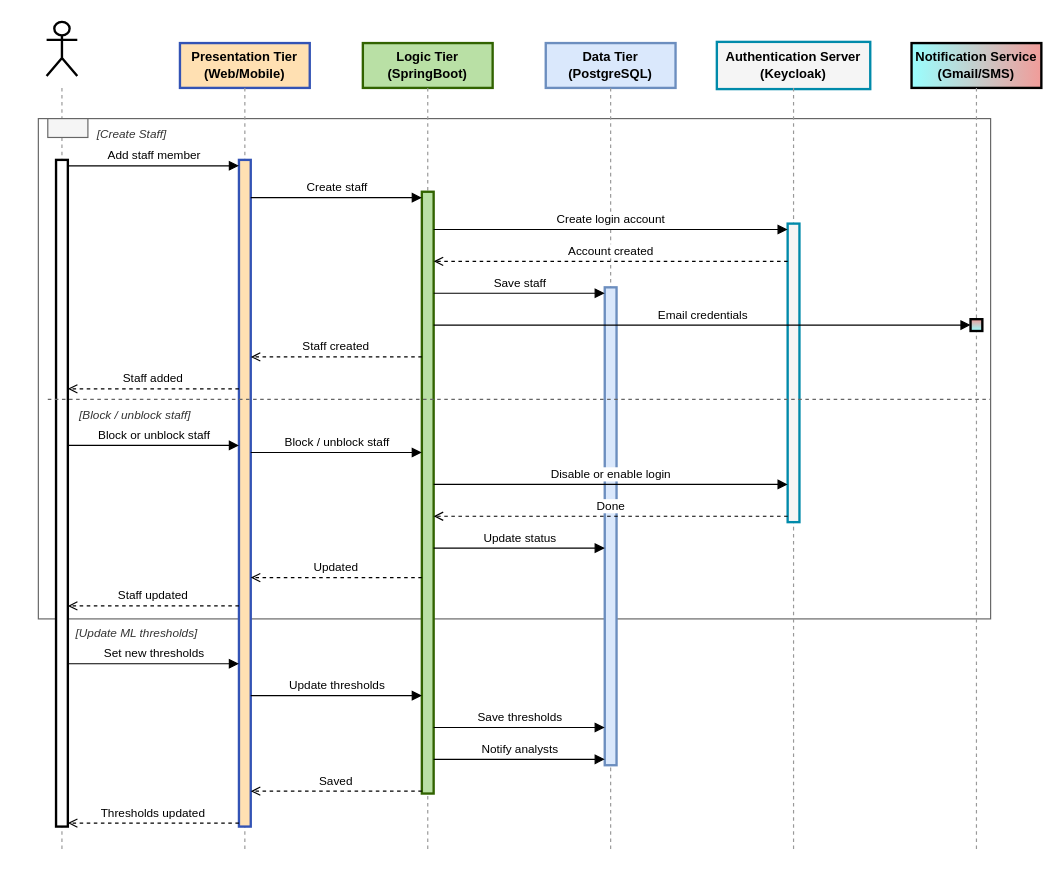
This 1063x872 diagram has some shape labels left out. The shapes that lost their labels are listed below. From the top down, each one's centre as x and y in pixels, then its label:
At point (61, 48): "SuperAdmin".
At point (67, 127): "alt".
